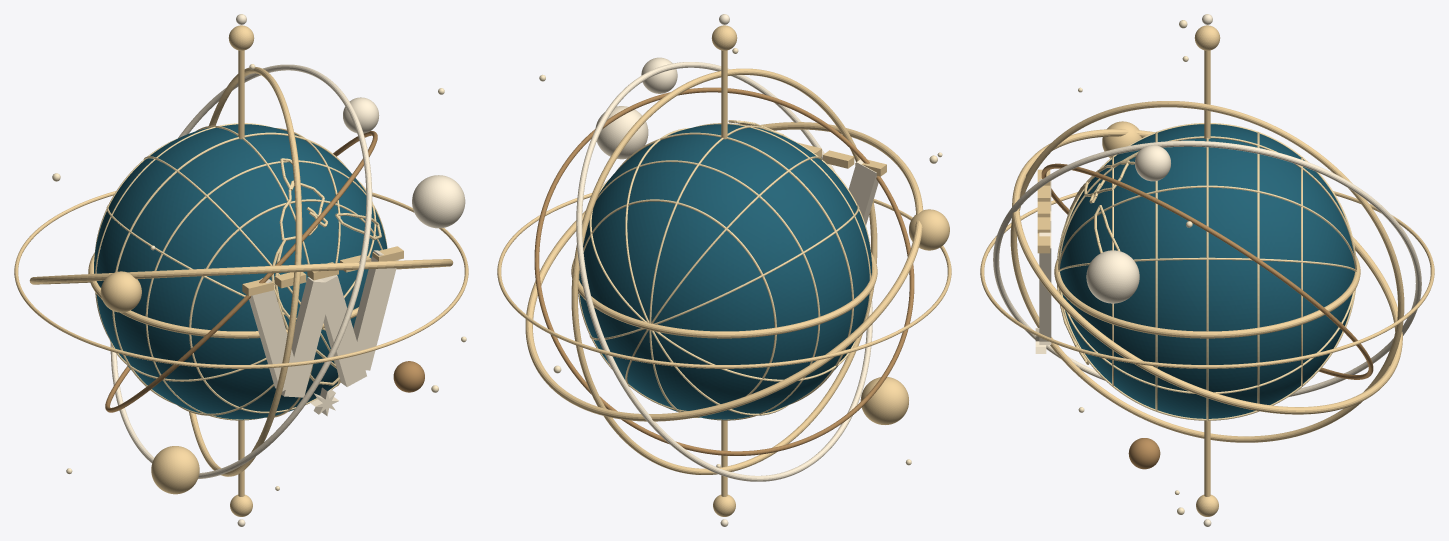
File: webinsolito-hero-v25.glb
The picture shows the model from 3 angles, left to right: view 1: azimuth 30°, elevation 25°; view 2: azimuth 150°, elevation 25°; view 3: azimuth 270°, elevation 25°; orthographic projection.
Visible parts, largest first — view 1: globe_core, orbit_ring_03, orbit_ring_02, armillary_outer, orbit_ring_01, logo_W_gold_02, logo_W_gold_04, logo_W_gold_03, orbit_ring_04, planet_02, logo_W_gold_01, planet_03 (+14 smaller); view 2: globe_core, orbit_ring_01, orbit_ring_02, orbit_ring_03, orbit_ring_04, armillary_outer, globe_rim, planet_03, planet_02, latitude_01, planet_01, latitude_03 (+11 smaller); view 3: globe_core, orbit_ring_02, orbit_ring_01, orbit_ring_03, armillary_outer, globe_rim, orbit_ring_04, planet_02, meridian_05, axis_vertical, planet_05, logo_W_gold_04 (+10 smaller).
Boxes of the visible parts, x1=… form: globe_core: x1=94, y1=124, x2=387, y2=419; orbit_ring_03: x1=110, y1=64, x2=372, y2=478; orbit_ring_02: x1=189, y1=67, x2=302, y2=476; armillary_outer: x1=14, y1=191, x2=468, y2=368; orbit_ring_01: x1=29, y1=259, x2=453, y2=284; logo_W_gold_02: x1=281, y1=277, x2=333, y2=397; logo_W_gold_04: x1=353, y1=250, x2=398, y2=370; logo_W_gold_03: x1=318, y1=275, x2=366, y2=386; orbit_ring_04: x1=105, y1=131, x2=377, y2=412; planet_02: x1=412, y1=175, x2=465, y2=228; logo_W_gold_01: x1=249, y1=278, x2=299, y2=391; planet_03: x1=151, y1=446, x2=199, y2=494; globe_core: x1=579, y1=124, x2=871, y2=419; orbit_ring_01: x1=525, y1=122, x2=923, y2=421; orbit_ring_02: x1=571, y1=68, x2=877, y2=474; orbit_ring_03: x1=576, y1=62, x2=872, y2=481; orbit_ring_04: x1=534, y1=87, x2=914, y2=455; armillary_outer: x1=497, y1=193, x2=951, y2=368; globe_rim: x1=571, y1=252, x2=877, y2=338; planet_03: x1=860, y1=377, x2=908, y2=424; planet_02: x1=595, y1=106, x2=648, y2=159; latitude_01: x1=578, y1=199, x2=776, y2=411; planet_01: x1=909, y1=209, x2=949, y2=250; latitude_03: x1=616, y1=132, x2=853, y2=404; globe_core: x1=1060, y1=124, x2=1354, y2=418; orbit_ring_02: x1=1010, y1=101, x2=1404, y2=442; orbit_ring_01: x1=1012, y1=129, x2=1402, y2=414; orbit_ring_03: x1=993, y1=140, x2=1421, y2=396; armillary_outer: x1=980, y1=191, x2=1434, y2=368; globe_rim: x1=1054, y1=255, x2=1360, y2=338; orbit_ring_04: x1=1041, y1=163, x2=1373, y2=379; planet_02: x1=1086, y1=250, x2=1139, y2=303; meridian_05: x1=1058, y1=123, x2=1356, y2=420; axis_vertical: x1=1204, y1=50, x2=1210, y2=496; planet_05: x1=1135, y1=145, x2=1170, y2=181; logo_W_gold_04: x1=1039, y1=232, x2=1051, y2=341.
Size of the model in its own units: 3.79 by 4.67 by 3.75.
